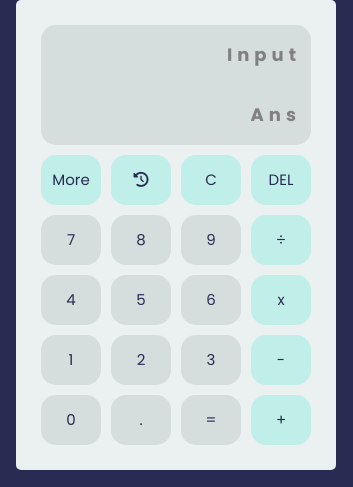
Test: Calculator › should subtract two numbers correctly
Click the button with test id "3". click: (211, 360)
box: 181,335 -> 241,385
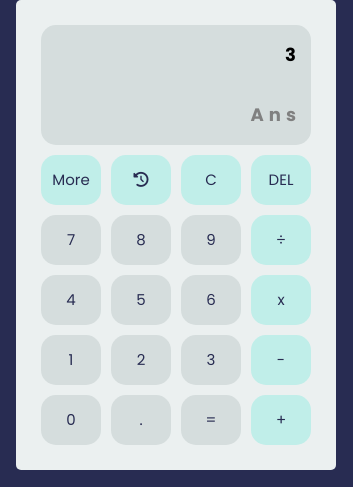
Click the button with test id "-". click: (281, 360)
box: 251,335 -> 311,385
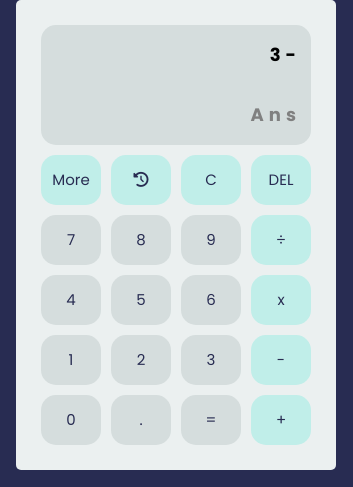
Click the button with test id "4". click: (71, 300)
box: 41,275 -> 101,325
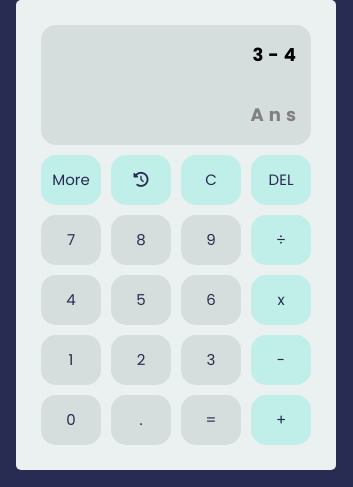
Click the button with test id "=". click: (211, 420)
box: 181,395 -> 241,445
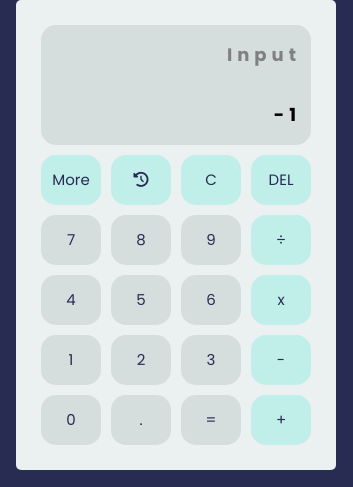
Check: the heading with test id "result" reads "-1", box 274,102 -> 301,127
